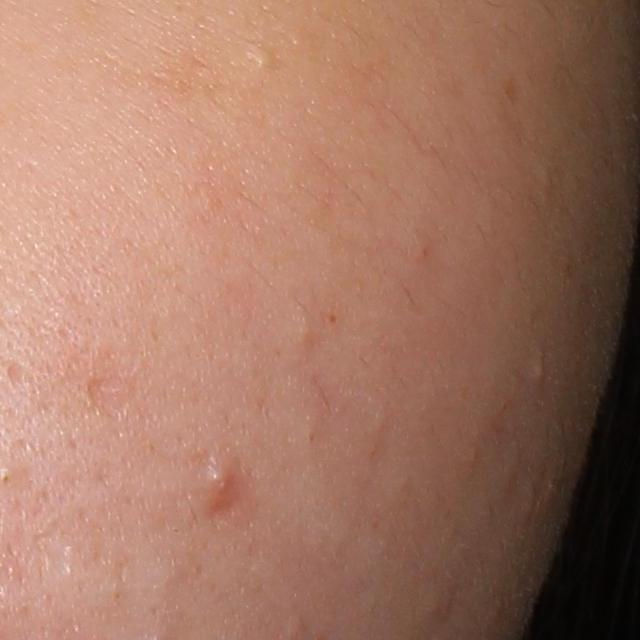atrophic_scar: (2, 356, 29, 383)
comedo: (290, 314, 316, 349), (250, 47, 274, 70), (532, 357, 547, 384)
papule: (204, 461, 238, 501)
